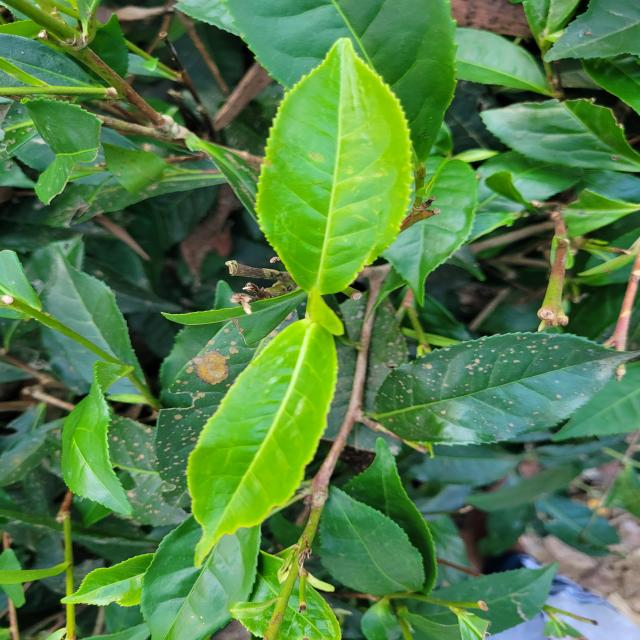Catagory A(1-2 days): (178, 302, 338, 572)
